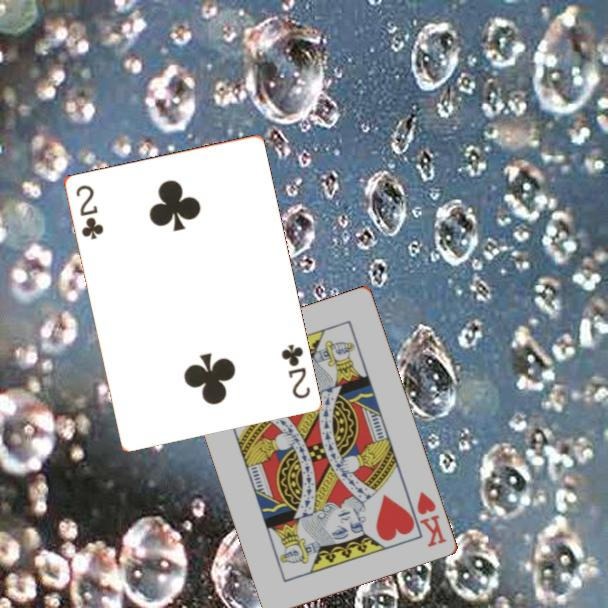c02: (277, 340, 313, 401), (72, 181, 106, 242)
h13: (414, 488, 450, 550)
